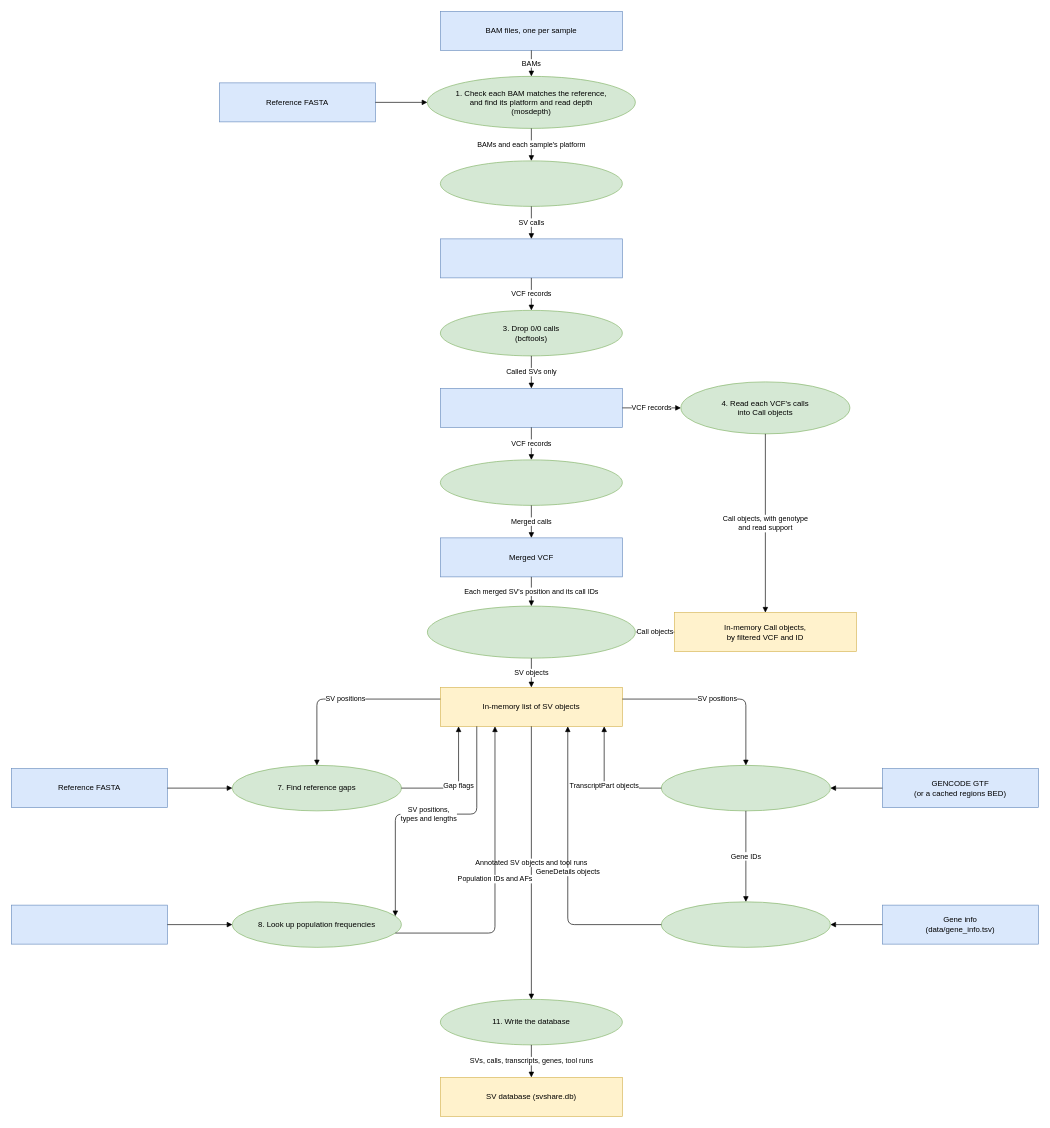
Image size: 1050x1128. Some labels were removed from this diagram. The box of each missing label's shape, as (x1, y1, x2, y2) in pixels:
10. Add gene details: (661, 901, 830, 947)
2. Call SVs (Sniffles2, cuteSV): (440, 160, 622, 206)
5. Merge calls (Jasmine): (440, 459, 622, 505)
6. Make an SV object for each Jasmine record, holding the Call objects it merged: (427, 605, 635, 658)
9. Find nearby transcript parts (bedtools): (661, 765, 830, 811)
Caller VCFs, one per sample per caller: (440, 238, 622, 278)
Filtered caller VCFs: (440, 388, 622, 427)
Population SV datasets (gnomAD, CoLoRSdb VCFs): (11, 904, 167, 944)
